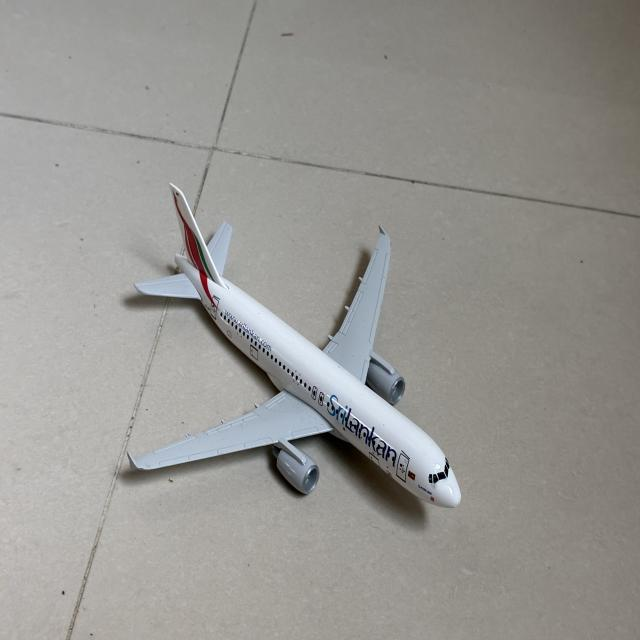air-plane: (125, 185, 460, 521)
